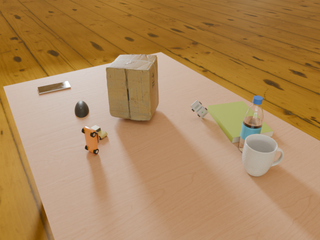book: (207, 101, 273, 143)
bottle: (238, 96, 263, 152)
box: (106, 54, 159, 120)
cup: (242, 134, 284, 176)
mouse: (75, 101, 89, 118)
phone: (38, 81, 71, 94)
toy_car: (82, 127, 100, 154), (191, 100, 209, 118), (91, 125, 107, 139)
